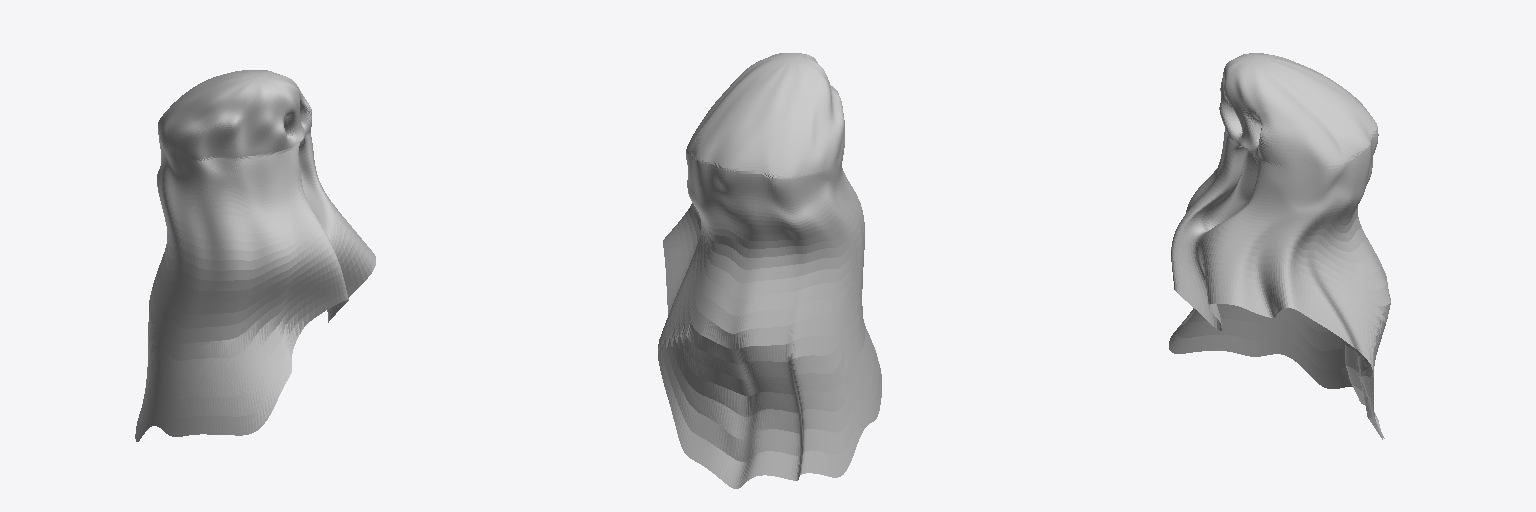
Rendered from ghost_000017.obj.
The picture shows the model from 3 angles: view 1: azimuth 30°, elevation 25°; view 2: azimuth 150°, elevation 25°; view 3: azimuth 270°, elevation 25°; orthographic projection.
Parts seen in each view (by area): view 1: 球体; view 2: 球体; view 3: 球体.
Part boxes in pixels (x1,y1,x2,y2): 球体: (135,70,375,441); 球体: (658,53,881,488); 球体: (1169,53,1390,439).
Bounding box in the file's own units: 8.62 × 15.89 × 8.38.